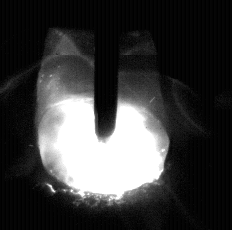arame: (95, 0, 118, 143)
poca: (37, 0, 170, 230)
